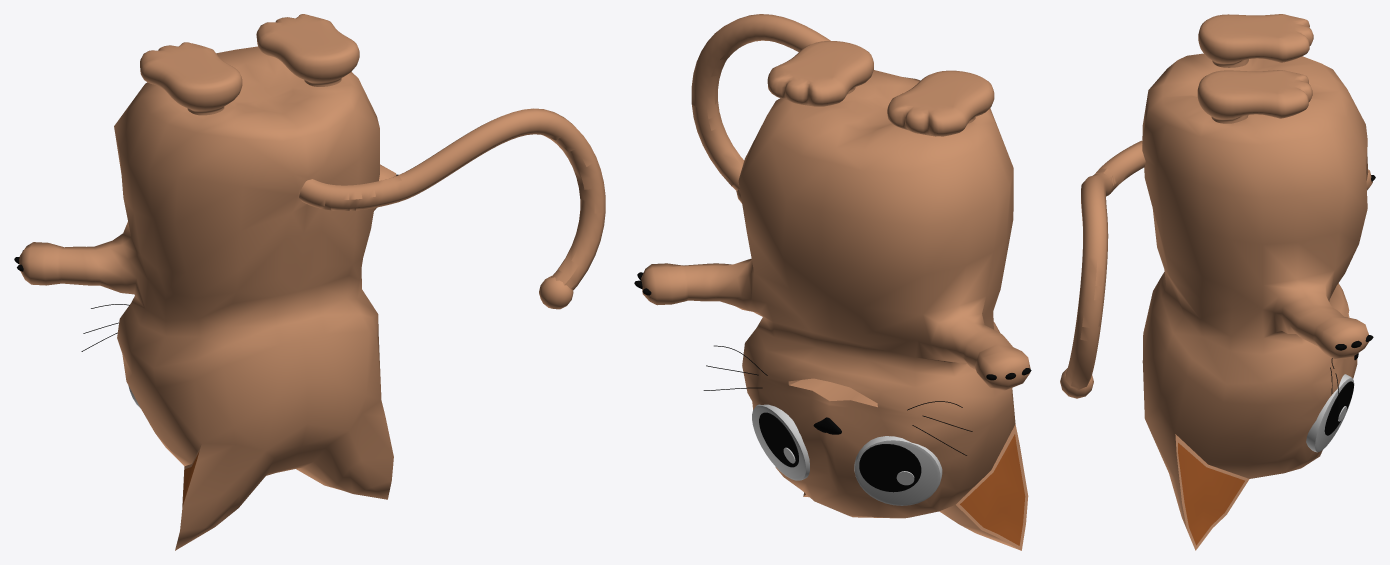
File: Kot_V1_01.FBX
3 renders of one model, left to right at view 1: azimuth 30°, elevation 25°; view 2: azimuth 150°, elevation 25°; view 3: azimuth 270°, elevation 25°, orthographic. The views are drawn at different scales.
Visible parts, largest first — view 1: Cat_003; view 2: Cat_003; view 3: Cat_003.
Boxes of the visible parts, x1=… form: Cat_003: x1=14, y1=14, x2=605, y2=550; Cat_003: x1=634, y1=14, x2=1031, y2=550; Cat_003: x1=1060, y1=14, x2=1375, y2=550.
Bounding box in the file's own units: 167 × 159 × 102.
